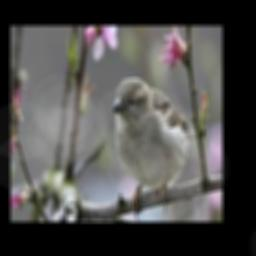Sparrow: (110, 77, 196, 218)
